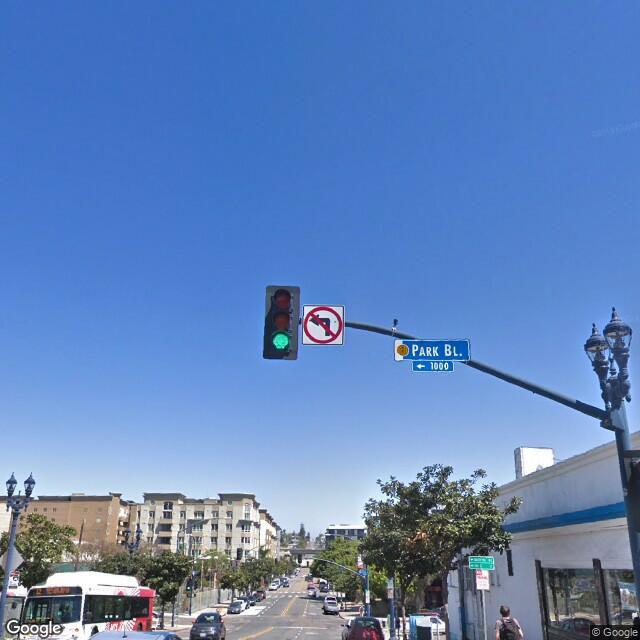light: (606, 306, 634, 365), (581, 327, 611, 381)
